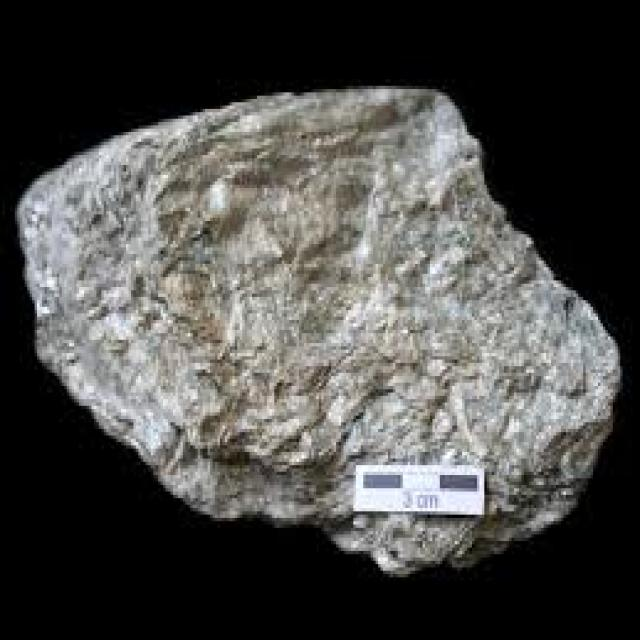Metamorphic: (2, 82, 622, 456)
